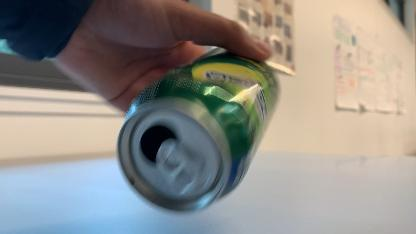Can: (118, 48, 282, 215)
